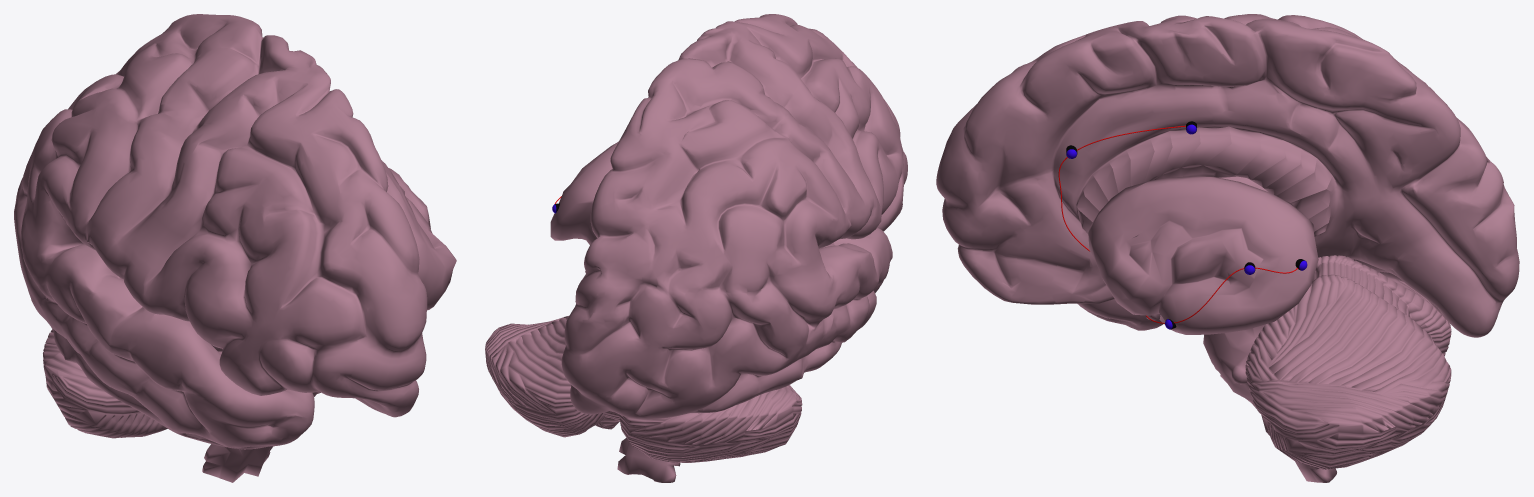
File: brainModel.glb
3 renders of one model, left to right at view 1: azimuth 30°, elevation 25°; view 2: azimuth 150°, elevation 25°; view 3: azimuth 270°, elevation 25°, orthographic. The views are drawn at different scales.
Visible parts, largest first — view 1: right hemispheres, Brain Stem, Cerebrellum; view 2: right hemispheres, Cerebrellum, Brain Stem; view 3: right hemispheres, Cerebrellum, Brain Stem.
Boxes of the visible parts, x1,y1,x2,y2 form: right hemispheres: (14,14,427,449); Brain Stem: (202,160,456,482); Cerebrellum: (43,329,320,438); right hemispheres: (561,14,907,419); Cerebrellum: (485,316,802,462); Brain Stem: (550,141,680,482); right hemispheres: (936,14,1519,337); Cerebrellum: (1245,255,1451,469); Brain Stem: (1088,176,1336,482).
Size of the model in its own units: 3.37 by 4.02 by 4.73.
